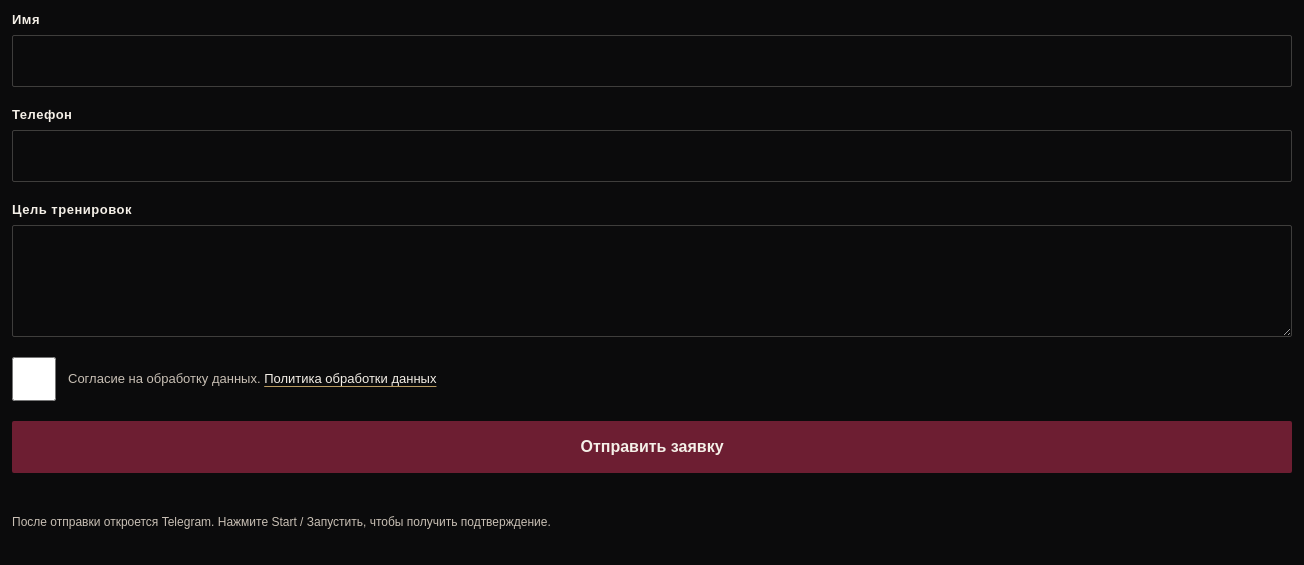
Test: LeadForm › closes the reserved Telegram window when delivery fails
Type "Анна Иванова" into the field labelled "Имя" at coordinates (652, 61), box [12,35,1292,87]
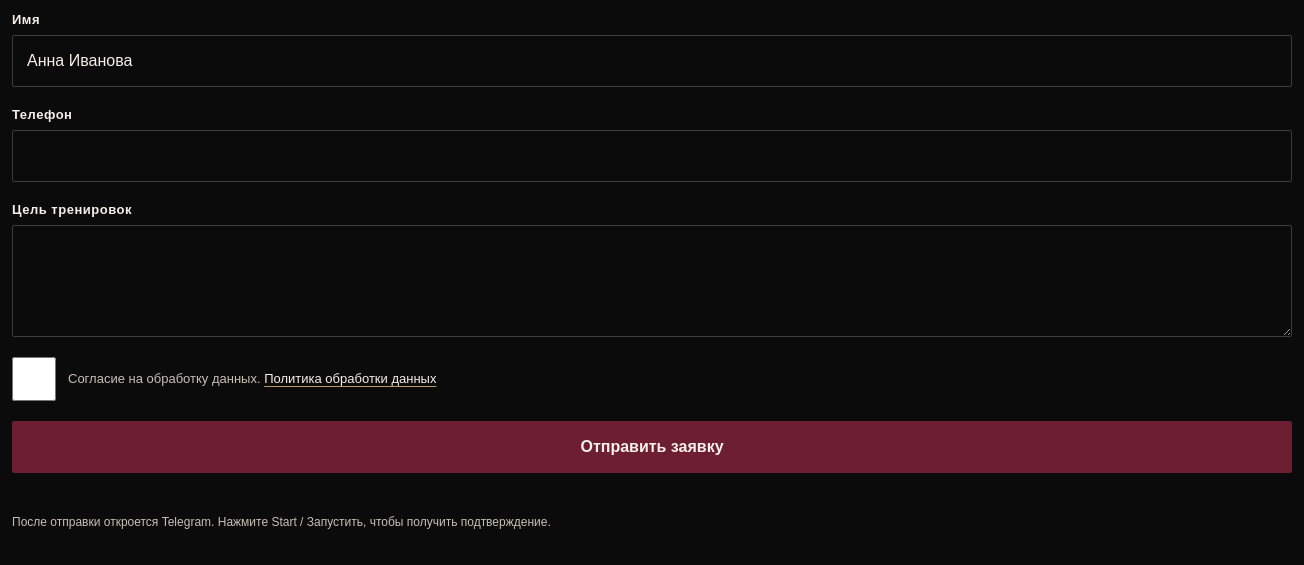
Type "+7 900 000-00-00" into the field labelled "Телефон" at coordinates (652, 156), box [12,130,1292,182]
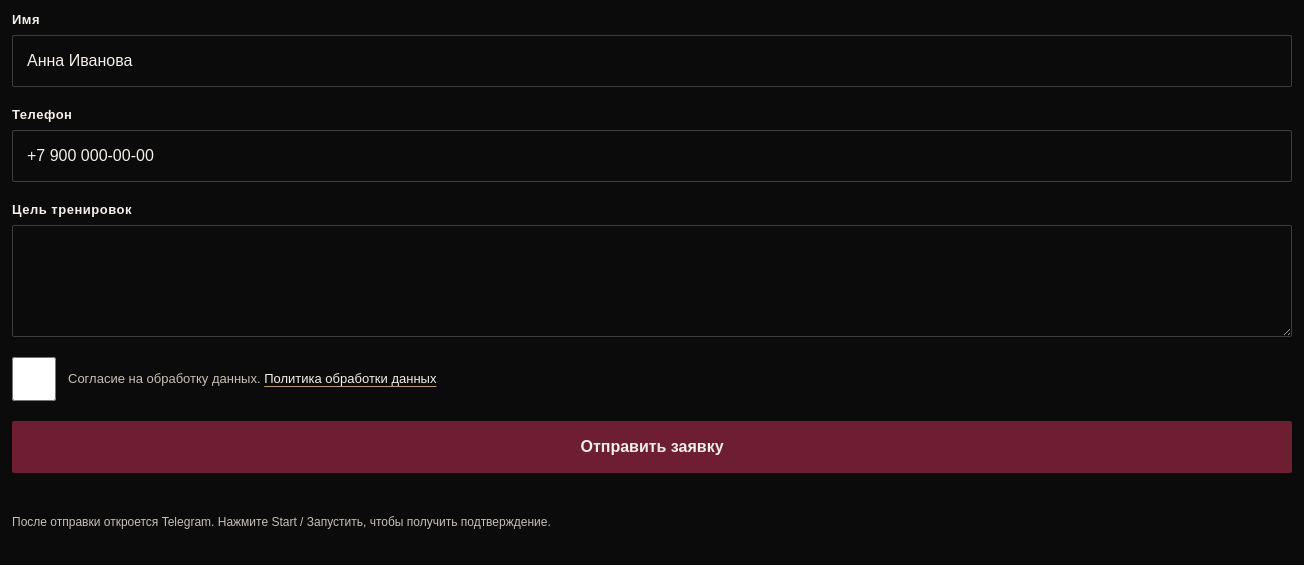
Click the checkbox labelled "Согласие на обработку данных. Политика обработки данных" at coordinates (34, 379), box [12,357,56,401]
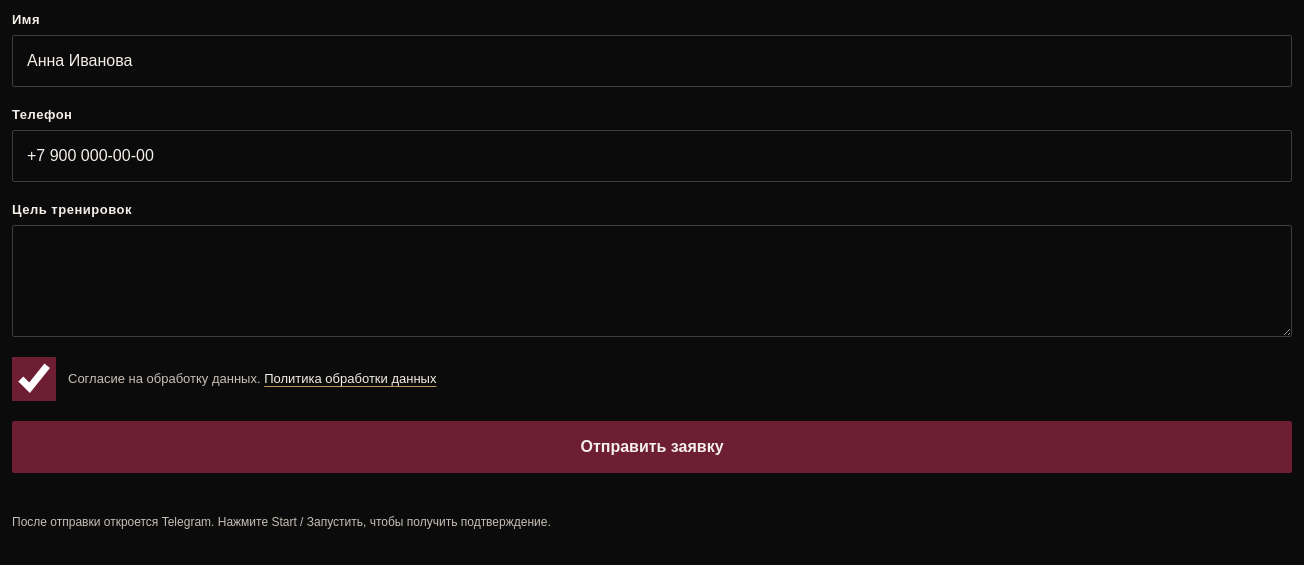
Click the button "Отправить заявку" at coordinates (652, 447), box [12,421,1292,473]
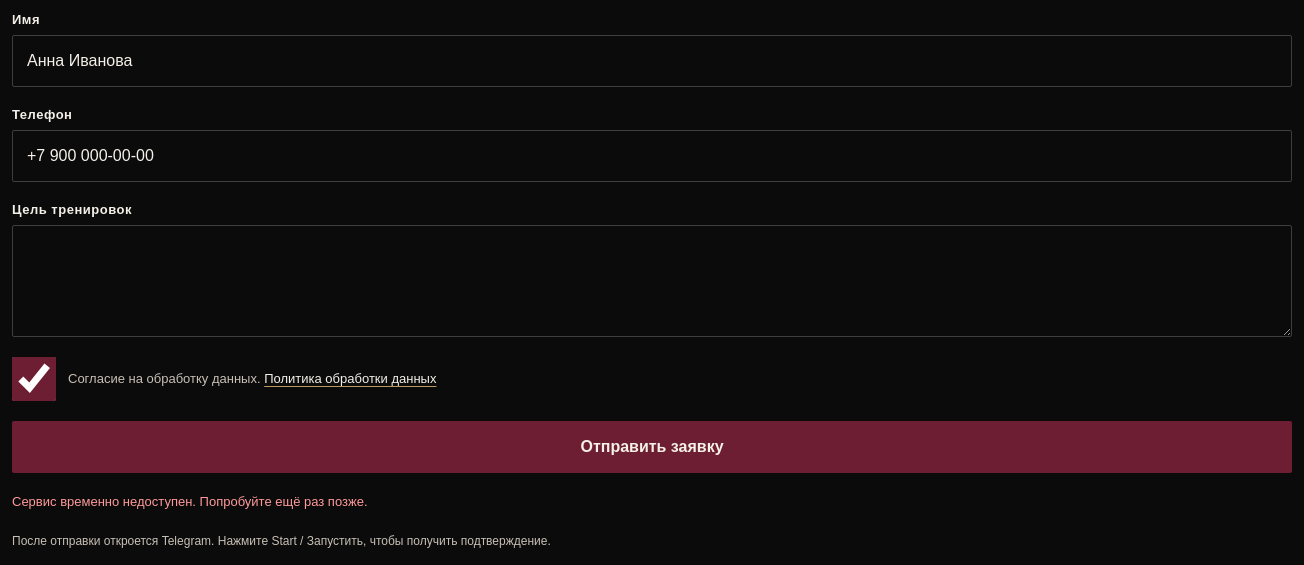
Expected: the text "Сервис временно недоступен. Попробуйте ещё раз позже." is shown, [12,494,368,509]
